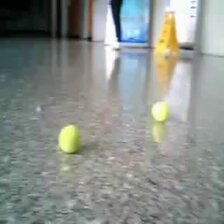tennis: (59, 125, 80, 153), (152, 102, 170, 122)
